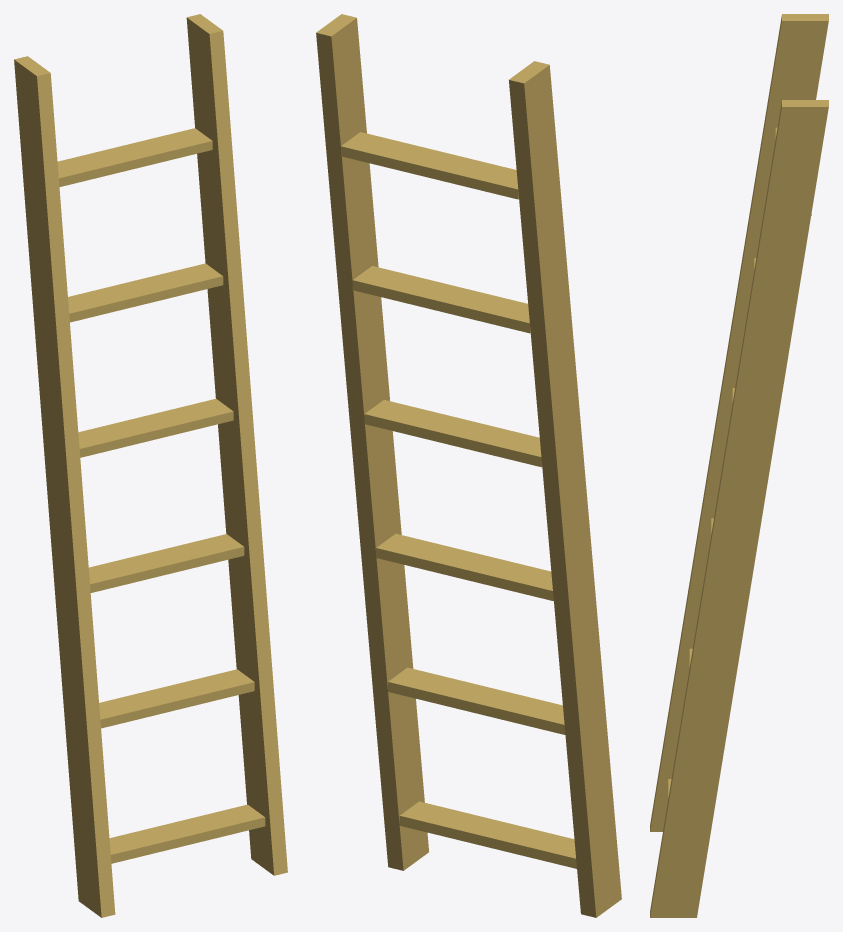
The model's file is SM_Ladder.fbx.
The picture shows the model from 3 angles, left to right: view 1: azimuth 30°, elevation 25°; view 2: azimuth 150°, elevation 25°; view 3: azimuth 270°, elevation 25°; orthographic projection. The views are drawn at different scales.
Parts seen in each view (by area): view 1: SM_Ladder; view 2: SM_Ladder; view 3: SM_Ladder.
Part boxes in pixels (<box>): SM_Ladder: <box>14,14,287,917</box>; SM_Ladder: <box>316,14,621,917</box>; SM_Ladder: <box>650,14,828,917</box>.
Bounding box in the file's own units: 60.1 × 245 × 48.91.
